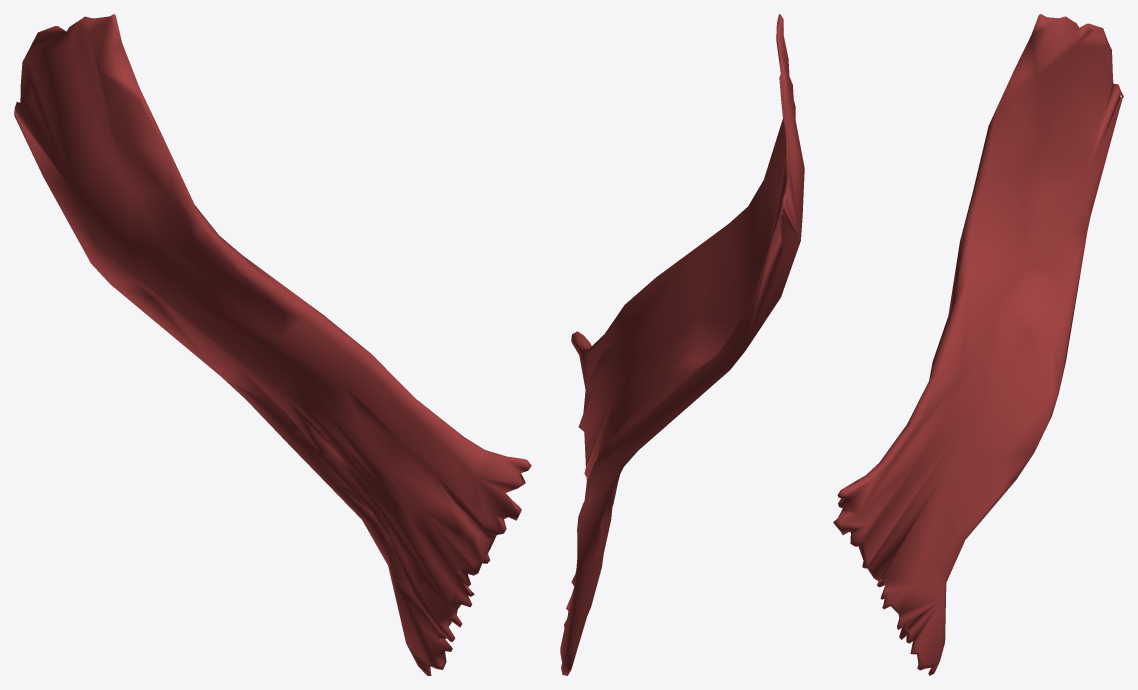
The model's file is zygomaticus-major-muscle-r.glb.
3 views of the same model, side by side, from view 1: azimuth 30°, elevation 25°; view 2: azimuth 150°, elevation 25°; view 3: azimuth 270°, elevation 25° (orthographic). The views are drawn at different scales.
Parts seen in each view (by area): view 1: Zygomaticus major muscle.r; view 2: Zygomaticus major muscle.r; view 3: Zygomaticus major muscle.r.
Part boxes in pixels (x1=…): Zygomaticus major muscle.r: x1=14, y1=14, x2=531, y2=675; Zygomaticus major muscle.r: x1=560, y1=14, x2=804, y2=675; Zygomaticus major muscle.r: x1=833, y1=14, x2=1123, y2=675.
Size of the model in its own units: 0.0294 by 0.0545 by 0.0256.
